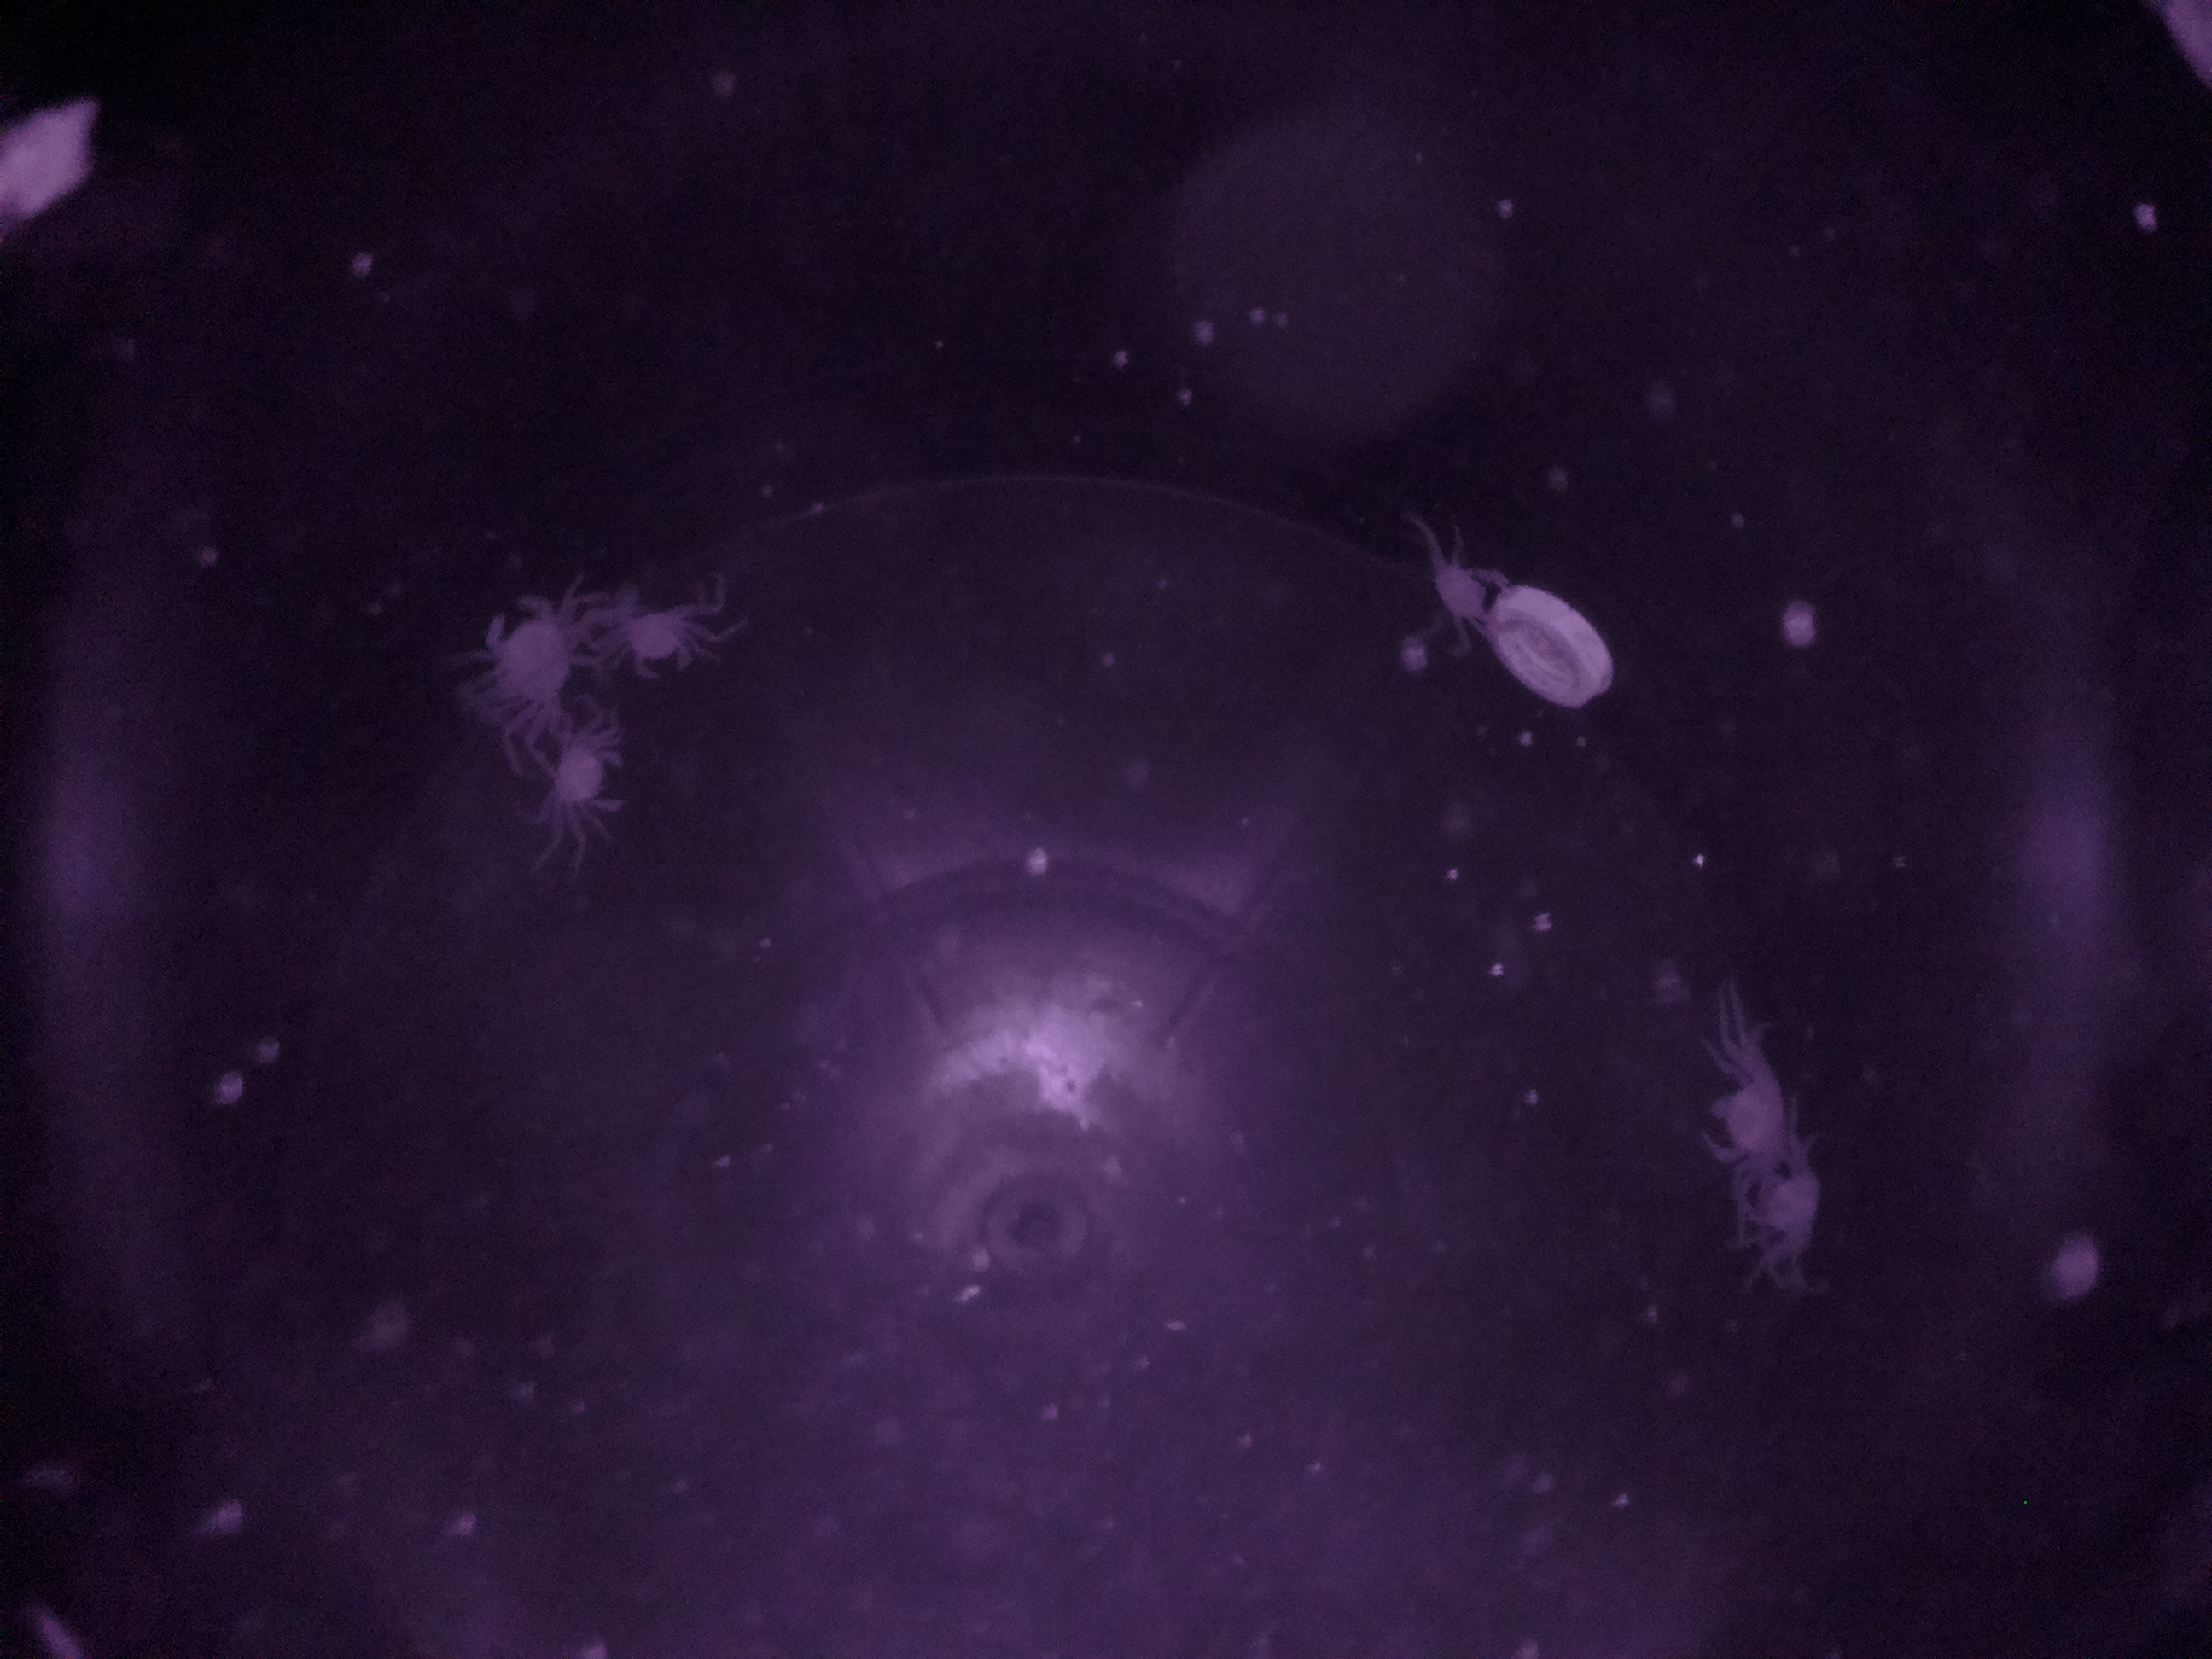Crab: (1677, 1042, 1806, 1195), (526, 713, 648, 838), (608, 592, 704, 694)
